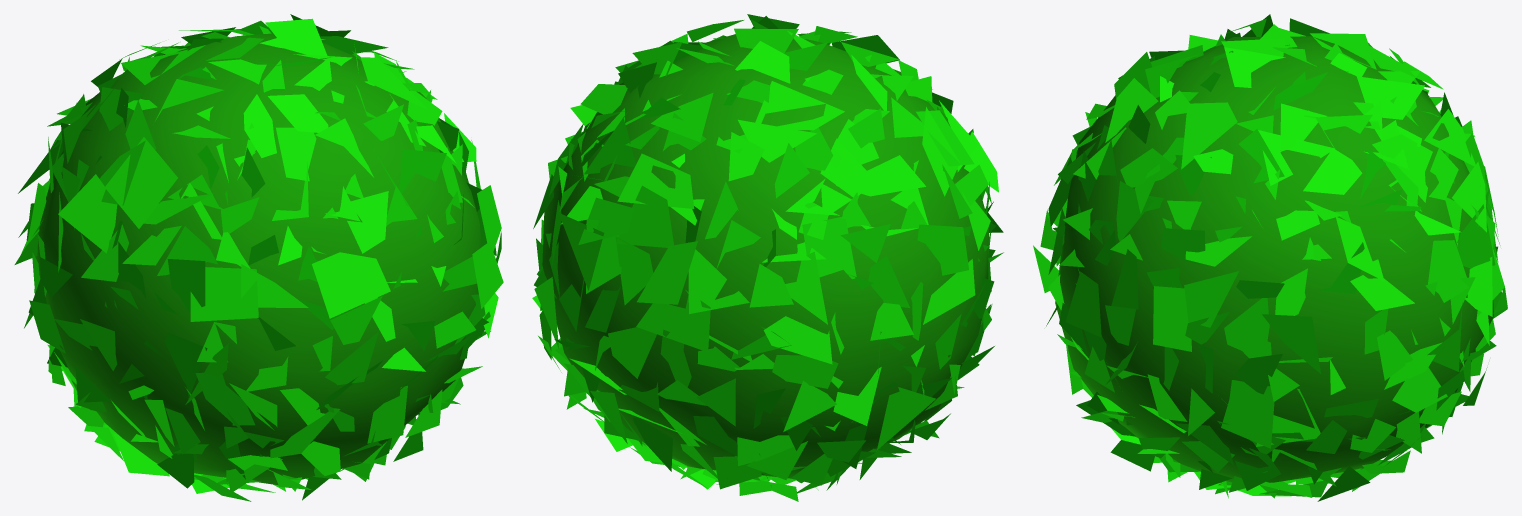
The model's file is round_bush.fbx.
The picture shows the model from 3 angles, left to right: view 1: azimuth 30°, elevation 25°; view 2: azimuth 150°, elevation 25°; view 3: azimuth 270°, elevation 25°; orthographic projection.
Visible parts, largest first — view 1: Cube.001, Cube; view 2: Cube.001, Cube; view 3: Cube.001, Cube.
Part boxes in pixels (x1,y1,x2,y2): Cube.001: (14, 14, 503, 501); Cube: (35, 33, 481, 485); Cube.001: (532, 14, 1003, 501); Cube: (542, 34, 988, 478); Cube.001: (1033, 14, 1507, 501); Cube: (1055, 36, 1493, 482).
Bounding box in the file's own units: 1.83 × 1.81 × 1.8.
